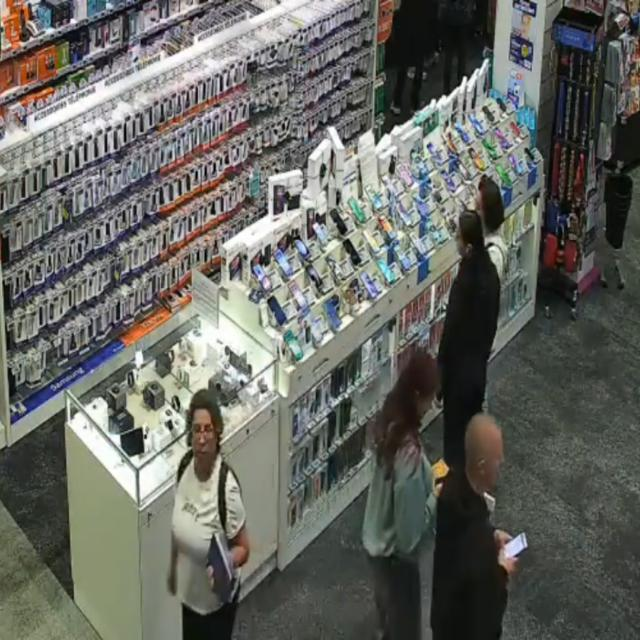article: (205, 531, 234, 604), (431, 458, 450, 479)
bags: (218, 459, 239, 531)
hands: (499, 553, 517, 578), (495, 530, 512, 549), (168, 566, 176, 596), (433, 387, 443, 409), (207, 566, 214, 589), (434, 482, 444, 498)
person: (363, 351, 437, 639), (169, 390, 249, 639), (431, 415, 516, 639), (438, 211, 500, 467), (476, 176, 508, 282)
